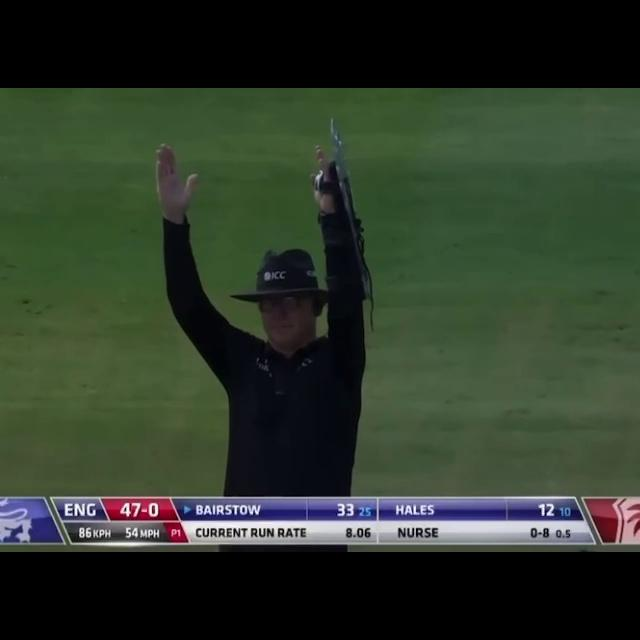umpire: (139, 120, 375, 494)
